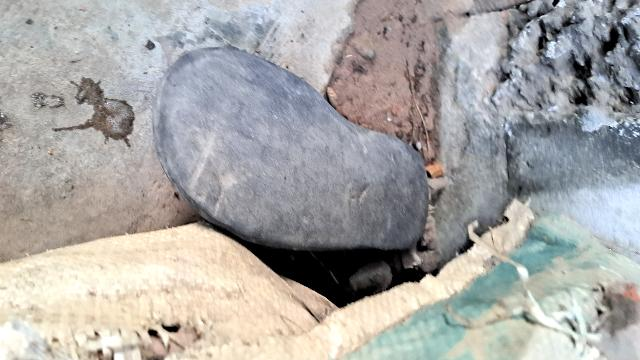sandal: (128, 37, 462, 299)
